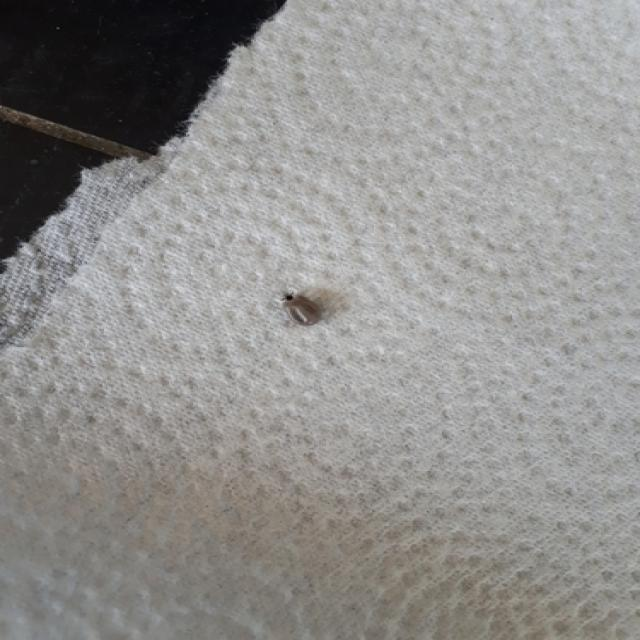Ixodes Ricinus-F-Fed: (276, 288, 350, 330)
